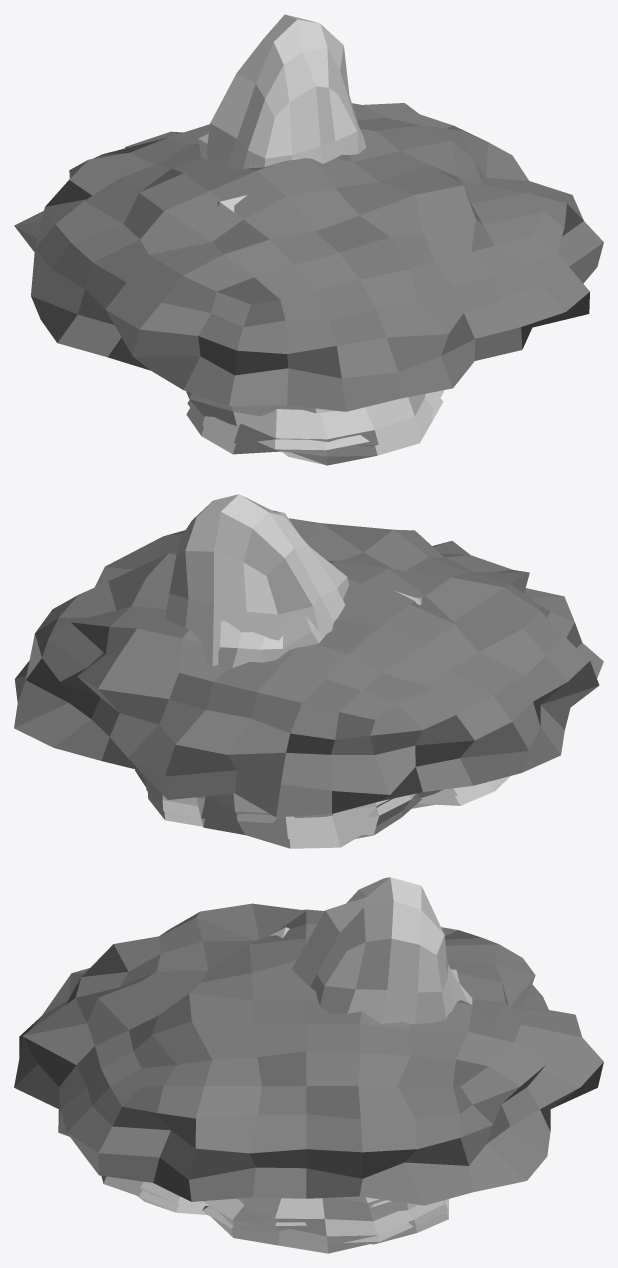
File: vsechnyKameny.fbx
The picture shows the model from 3 angles, top to bottom: view 1: azimuth 30°, elevation 25°; view 2: azimuth 150°, elevation 25°; view 3: azimuth 270°, elevation 25°; orthographic projection.
Parts seen in each view (by area): view 1: kamenVelky3, kamenVelky1, kamenVelky2; view 2: kamenVelky3, kamenVelky1, kamenVelky2; view 3: kamenVelky3, kamenVelky1, kamenVelky2.
Boxes of the visible parts, bbox=[...] form: kamenVelky3: bbox=[14, 103, 603, 411]; kamenVelky1: bbox=[186, 14, 442, 465]; kamenVelky2: bbox=[187, 128, 444, 446]; kamenVelky3: bbox=[14, 518, 603, 817]; kamenVelky1: bbox=[135, 494, 510, 848]; kamenVelky2: bbox=[139, 591, 492, 838]; kamenVelky3: bbox=[14, 903, 603, 1205]; kamenVelky1: bbox=[101, 877, 468, 1253]; kamenVelky2: bbox=[113, 927, 472, 1245].
Bounding box in the file's own units: 683 × 429 × 707.
